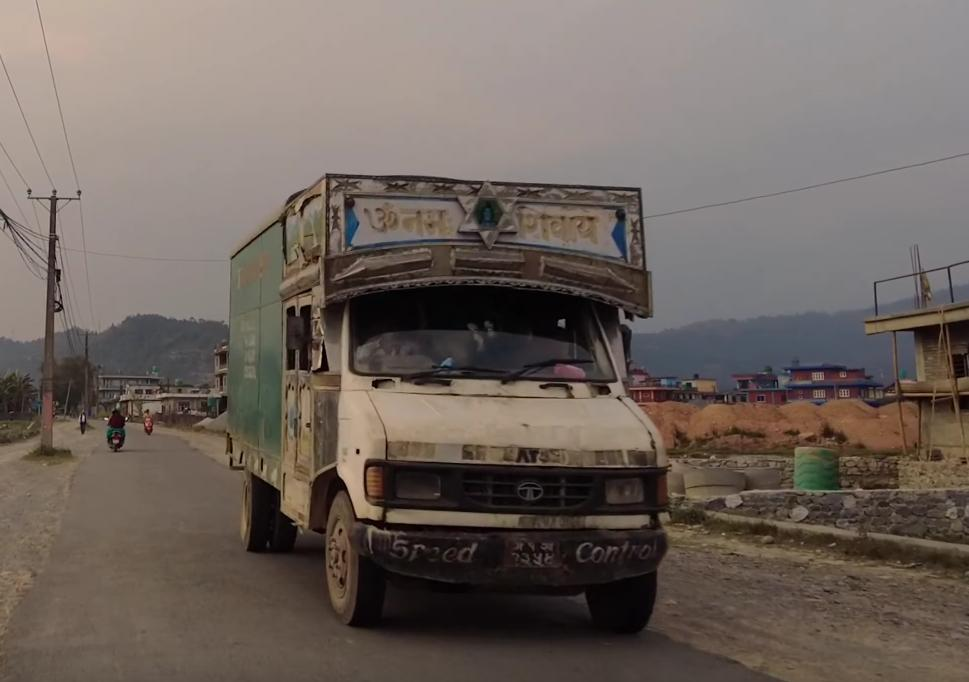bike: (89, 392, 133, 461)
mini_truck: (211, 167, 693, 641)
